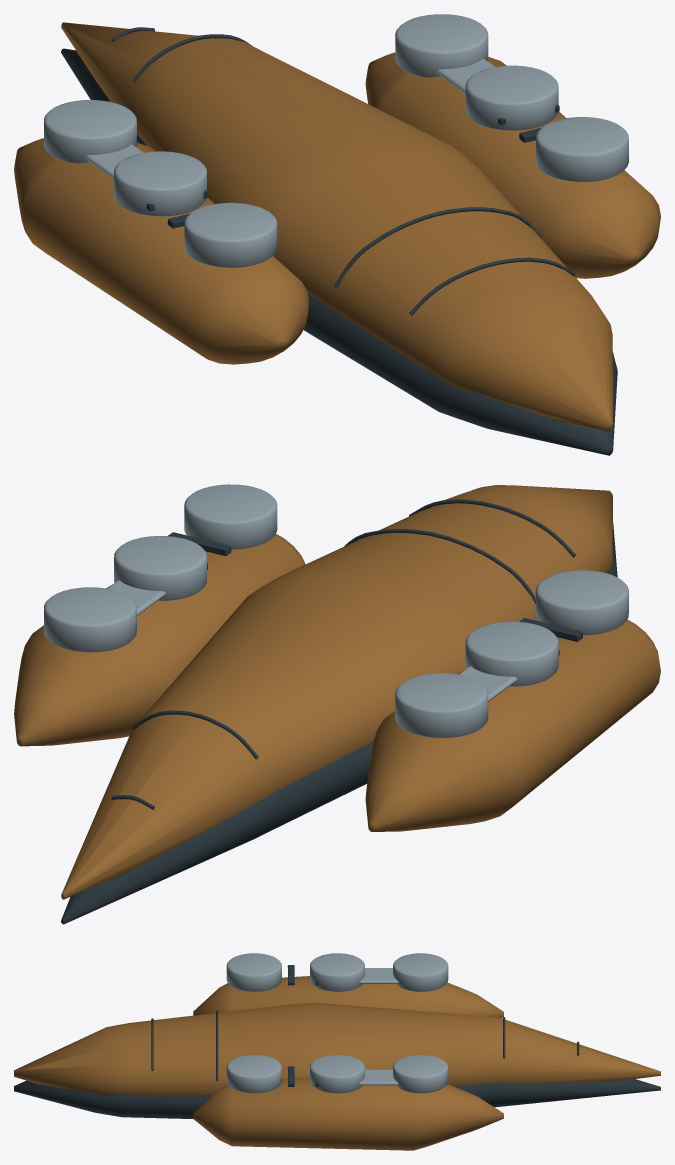
The model's file is tactical-1.glb.
3 renders of one model, top to bottom at view 1: azimuth 30°, elevation 25°; view 2: azimuth 150°, elevation 25°; view 3: azimuth 270°, elevation 25°, orthographic. The views are drawn at different scales.
Visible parts, largest first — view 1: SM_Hull, SM_Weapon_Right, SM_Weapon_Left; view 2: SM_Hull, SM_Weapon_Left, SM_Weapon_Right; view 3: SM_Hull, SM_Weapon_Left, SM_Weapon_Right.
Boxes of the visible parts, x1,y1,x2,y2 form: SM_Hull: [14, 22, 660, 455]; SM_Weapon_Right: [395, 14, 628, 182]; SM_Weapon_Left: [44, 100, 277, 267]; SM_Hull: [14, 485, 660, 924]; SM_Weapon_Left: [395, 570, 628, 738]; SM_Weapon_Right: [44, 484, 277, 652]; SM_Hull: [14, 965, 660, 1150]; SM_Weapon_Left: [226, 953, 448, 991]; SM_Weapon_Right: [226, 1055, 448, 1093].
Size of the model in its own units: 3.7 by 1.08 by 7.
